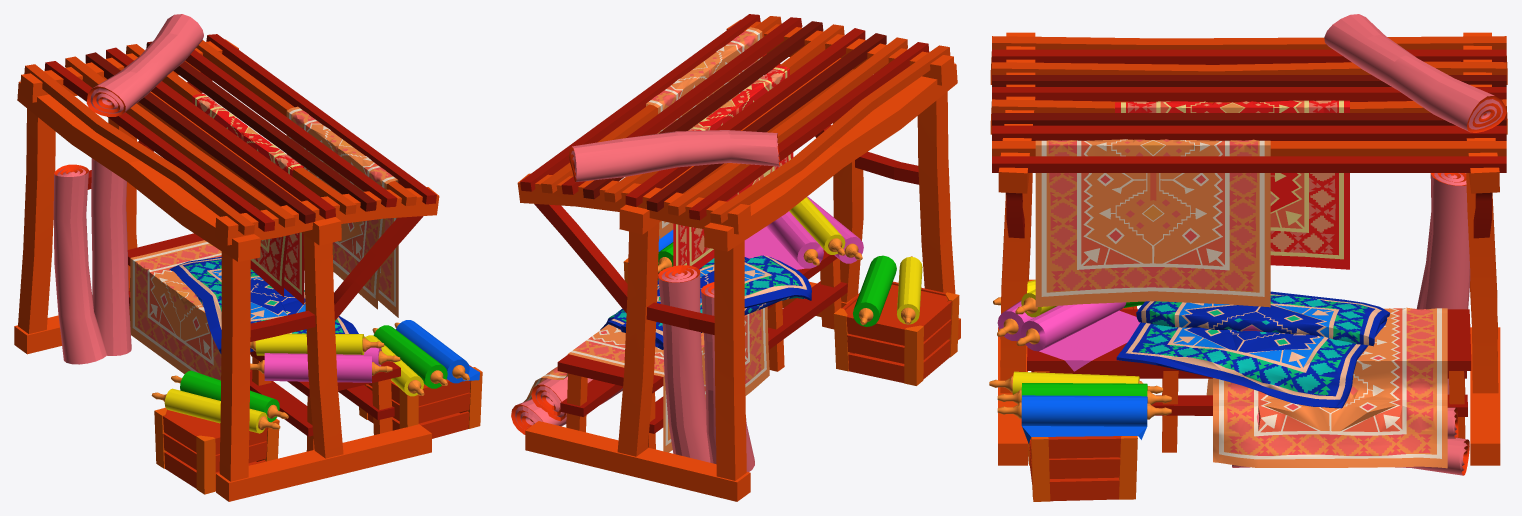
The model's file is marketstall2.glb.
3 renders of one model, left to right at view 1: azimuth 30°, elevation 25°; view 2: azimuth 150°, elevation 25°; view 3: azimuth 270°, elevation 25°, orthographic. The views are drawn at different scales.
Visible parts, largest first — view 1: MarketStall2; view 2: MarketStall2; view 3: MarketStall2.
Boxes of the visible parts, x1,y1,x2,y2 form: MarketStall2: (14, 14, 482, 501); MarketStall2: (511, 14, 960, 501); MarketStall2: (989, 14, 1507, 501).
Size of what is drawn, in the model's own units: 1.51 by 1.52 by 2.04.
1 material, 1 textured.
